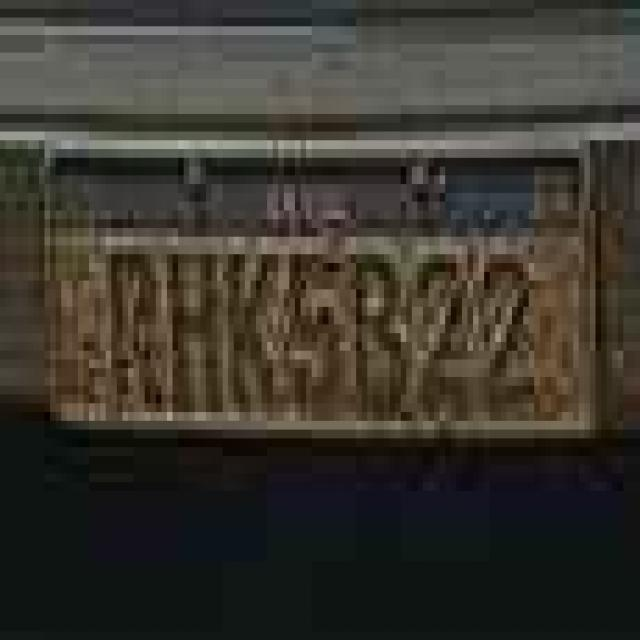5: (282, 234, 348, 416)
B: (350, 218, 406, 405)
H: (159, 242, 220, 416)
K: (225, 245, 286, 422)
R: (110, 241, 162, 406)
